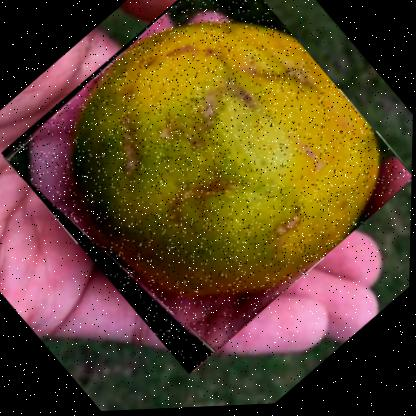orange_rotten: (0, 0, 415, 384)
